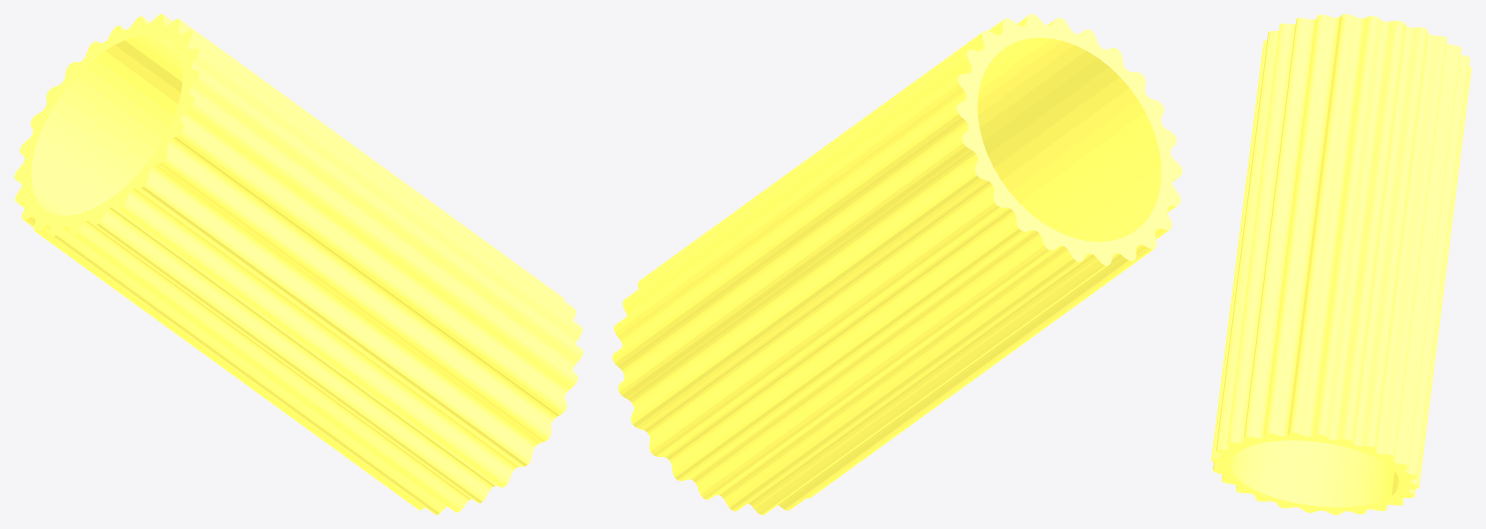
The model's file is Rigatoni.gltf.
3 renders of one model, left to right at view 1: azimuth 30°, elevation 25°; view 2: azimuth 150°, elevation 25°; view 3: azimuth 270°, elevation 25°, orthographic. The views are drawn at different scales.
Parts seen in each view (by area): view 1: Rigatoni; view 2: Rigatoni; view 3: Rigatoni.
Boxes of the visible parts, box(x1,y1,x2,y2) form: Rigatoni: box(14, 14, 583, 514); Rigatoni: box(612, 14, 1182, 514); Rigatoni: box(1211, 14, 1471, 514).
Bounding box in the file's own units: 1.75 × 1.7 × 0.962.
